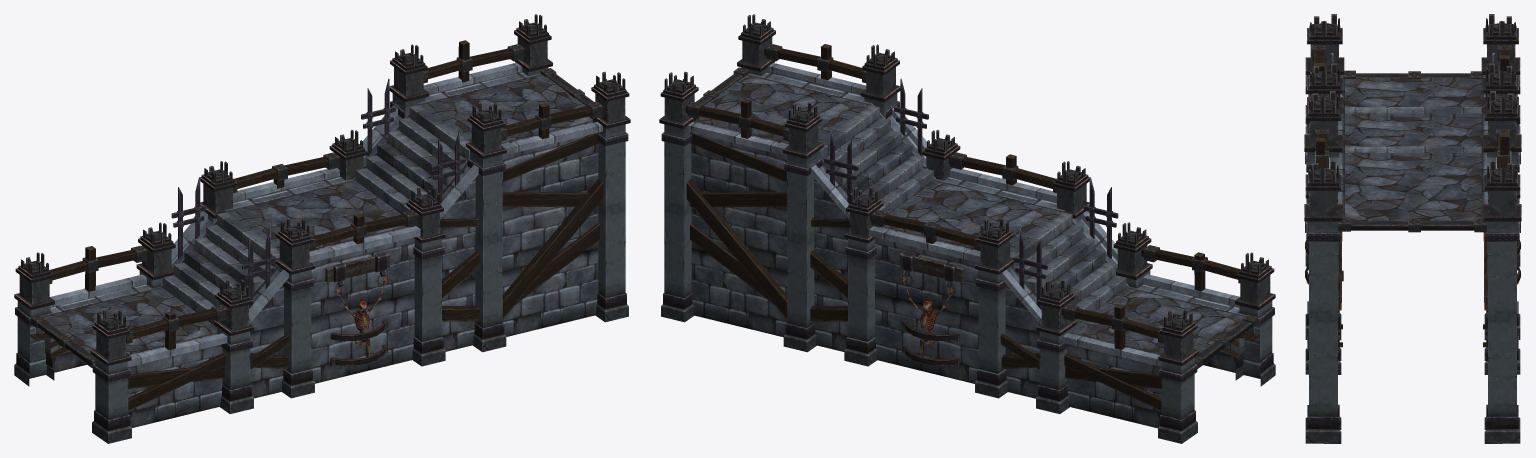
Rendered from B_gaodiqiao.fbx.
The picture shows the model from 3 angles, left to right: view 1: azimuth 30°, elevation 25°; view 2: azimuth 150°, elevation 25°; view 3: azimuth 270°, elevation 25°; orthographic projection. The views are drawn at different scales.
Parts seen in each view (by area): view 1: B_gaodiqiao; view 2: B_gaodiqiao; view 3: B_gaodiqiao.
Part boxes in pixels (x1=…): B_gaodiqiao: x1=14, y1=14, x2=630, y2=443; B_gaodiqiao: x1=659, y1=14, x2=1275, y2=443; B_gaodiqiao: x1=1304, y1=14, x2=1521, y2=443.
Size of the model in its own units: 1499 by 654 by 468.
